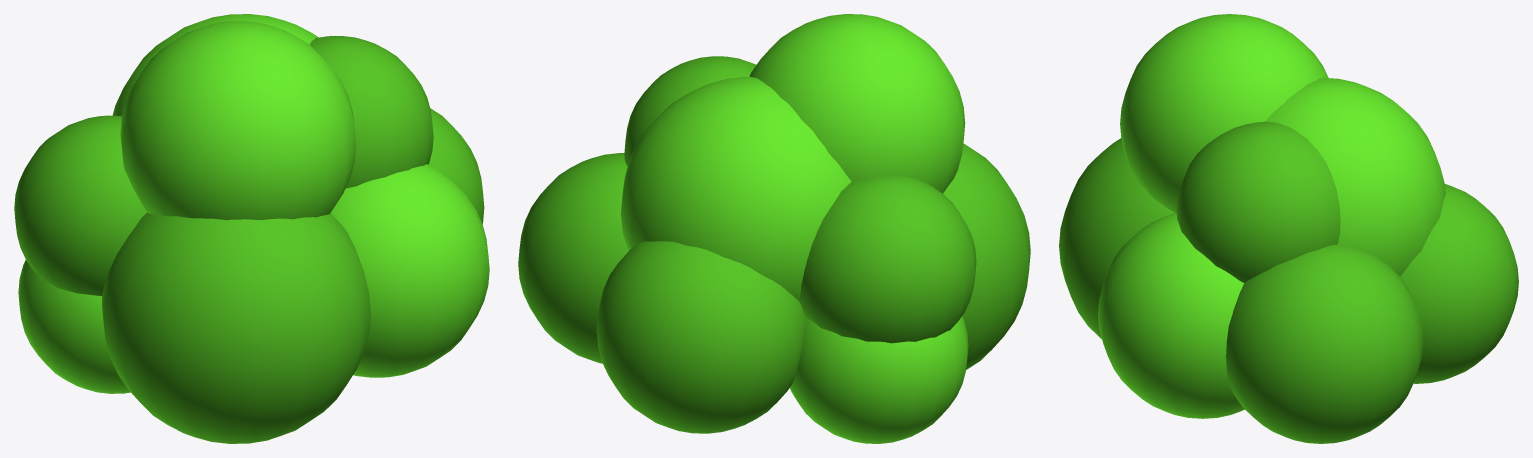
File: buisson.fbx
The picture shows the model from 3 angles, left to right: view 1: azimuth 30°, elevation 25°; view 2: azimuth 150°, elevation 25°; view 3: azimuth 270°, elevation 25°; orthographic projection. The views are drawn at different scales.
Parts seen in each view (by area): view 1: pSphere2; view 2: pSphere2; view 3: pSphere2.
Boxes of the visible parts, x1,y1,x2,y2 form: pSphere2: [14, 14, 489, 443]; pSphere2: [518, 14, 1030, 443]; pSphere2: [1059, 14, 1518, 443].
Bounding box in the file's own units: 22.29 × 17.93 × 21.51.
